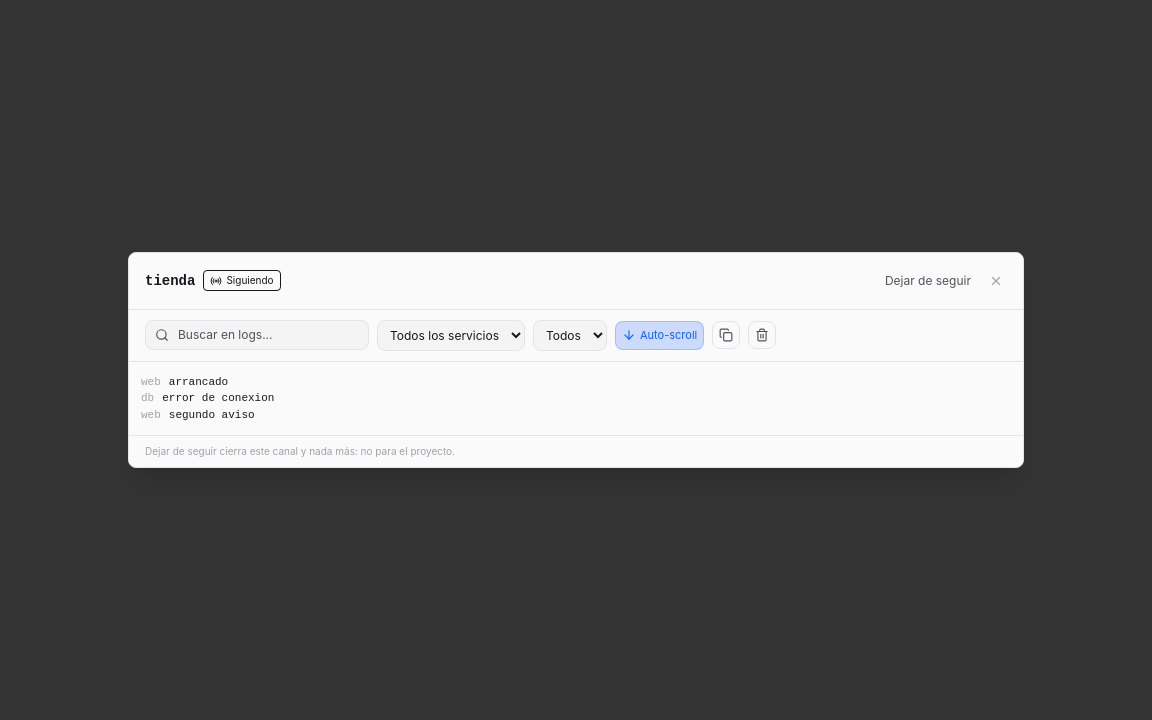
Test: ComposeLogsViewer › filtra las líneas por el texto buscado
Type "error" into the field with placeholder "Buscar en logs...".
click(257, 335); type("error")  # box [145,320,369,350]
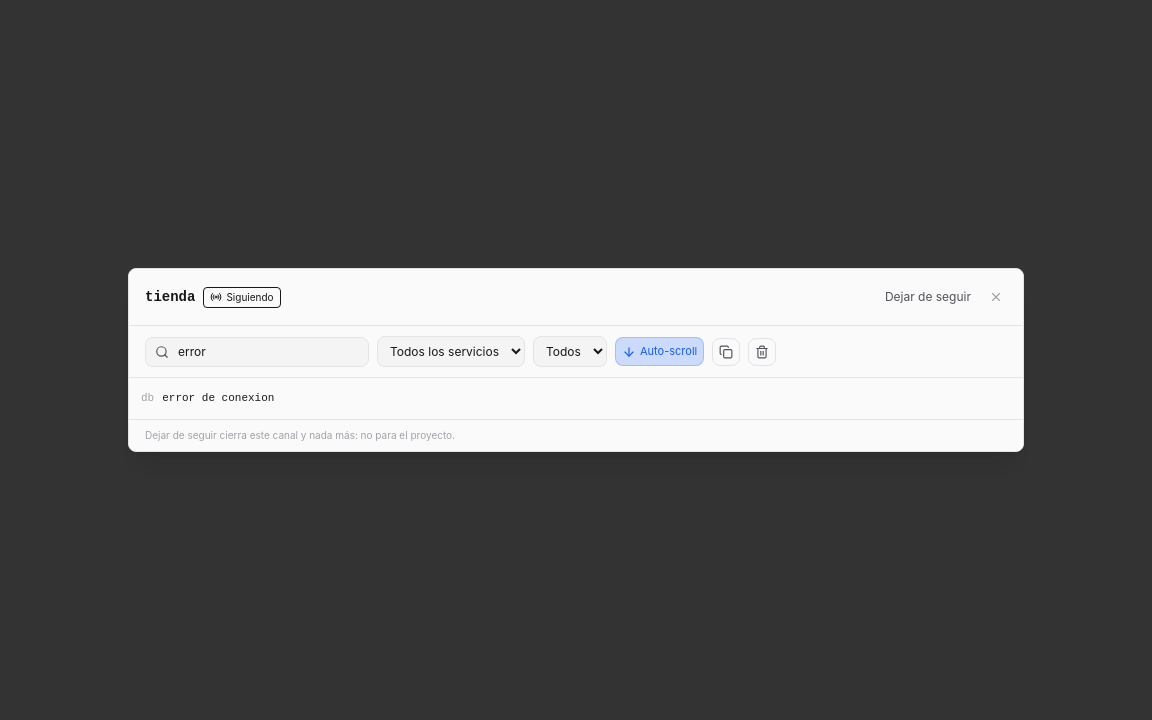
Expected: the text "error de conexion" is shown, [162,390,274,407]
Expected: the text "arrancado" is gone
